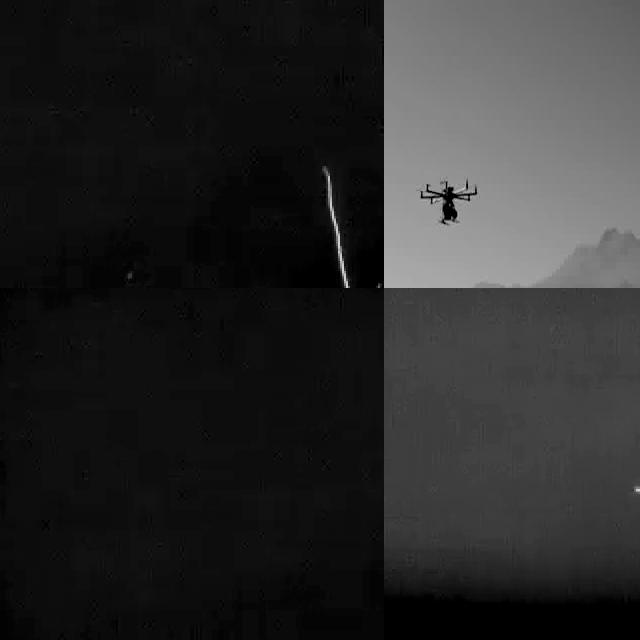0: (117, 263, 141, 288)
1: (615, 473, 640, 513)
drone: (418, 174, 481, 227)
